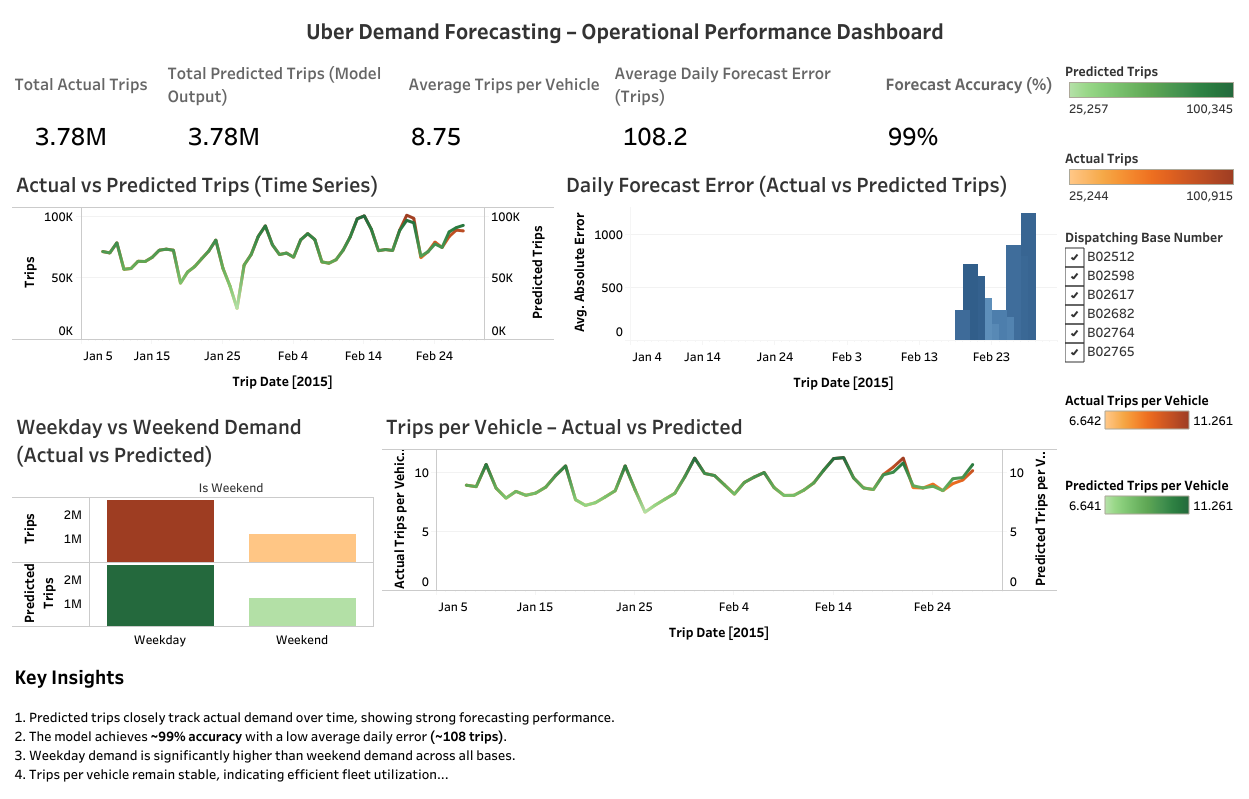

The page's visual inventory and layout, read from the dashboard file:
{"tool":"tableau","page":{"name":"Uber Demand Forecasting – Operational Performance Dashboard","canvas":[1000,1000],"units":"permille","ordinal":0},"visuals":[{"type":"text","box":[6.4,10,987.2,56.2]},{"type":"text","box":[6.4,66.2,122.2,76.5]},{"type":"text","box":[128.6,66.2,192.8,76.5]},{"type":"text","box":[321.3,66.2,165,76.5]},{"type":"text","box":[486.3,66.2,216.6,76.5]},{"type":"text","box":[702.8,66.2,146,76.5]},{"type":"legend","title":"Actual vs Predicted Trips (Time Series)","param":"[federated.0shk8vd0s3hhft1atfk1i05japby].[sum:predicted_trips:qk]","box":[848.8,66.2,144.8,108.8]},{"type":"worksheet","title":"Total Actual Trips","mark":"Automatic","box":[6.4,142.8,122.2,57.1]},{"type":"worksheet","title":"Total Predicted Trips (Model Output)","mark":"Automatic","box":[128.6,142.8,192.8,57.1]},{"type":"worksheet","title":"Average Trips per Vehicle","mark":"Automatic","box":[321.3,142.8,165,57.1]},{"type":"worksheet","title":"Average Daily Forecast Error (Trips)","mark":"Automatic","box":[486.3,142.8,216.6,57.1]},{"type":"worksheet","title":"Forecast Accuracy (%)","mark":"Automatic","box":[702.8,142.8,146,57.1]},{"type":"legend","title":"Actual vs Predicted Trips (Time Series)","param":"[federated.0shk8vd0s3hhft1atfk1i05japby].[sum:trips:qk]","box":[848.8,175,144.8,102.5]},{"type":"worksheet","title":"Actual vs Predicted Trips (Time Series)","mark":"Line","rows":["trips","predicted_trips"],"cols":["trip_date"],"box":[6.4,200,440.2,302.1]},{"type":"worksheet","title":"Daily Forecast Error (Actual vs Predicted Trips)","mark":"Bar","rows":["Calculation_606578592759934976"],"cols":["trip_date"],"box":[446.6,200,402.2,302.1]},{"type":"filter","title":"Actual vs Predicted Trips (Time Series)","param":"[federated.0shk8vd0s3hhft1atfk1i05japby].[none:dispatching_base_number:nk]","box":[848.8,277.5,144.8,200]},{"type":"legend","title":"Trips per Vehicle – Actual vs Predicted","param":"[federated.0shk8vd0s3hhft1atfk1i05japby].[usr:Calculation_606578592764907521:qk]","box":[848.8,477.5,144.8,106.2]},{"type":"worksheet","title":"Weekday vs Weekend Demand (Actual vs Predicted)","mark":"Bar","rows":["trips","predicted_trips"],"cols":["is_weekend"],"box":[6.4,502.1,295.9,314.2]},{"type":"worksheet","title":"Trips per Vehicle – Actual vs Predicted","mark":"Automatic","rows":["Calculation_606578592764907521","Calculation_606578592768544771"],"cols":["trip_date"],"box":[302.3,502.1,546.5,314.2]},{"type":"legend","title":"Trips per Vehicle – Actual vs Predicted","param":"[federated.0shk8vd0s3hhft1atfk1i05japby].[usr:Calculation_606578592768544771:qk]","box":[848.8,583.8,144.8,111.2]},{"type":"text","box":[6.4,816.2,987.2,173.8]}]}

Visuals, with their boxes on the dashboard's canvas, which has no fixed pixel size, in thousandths of its width and height (x1, y1, x2, y2). These are canvas units, not pixel positions in the 1249x799 screenshot, which may show the page scaled, cropped or inside an application window:
text: {"left": 6, "top": 10, "right": 994, "bottom": 66}
text: {"left": 6, "top": 66, "right": 129, "bottom": 143}
text: {"left": 129, "top": 66, "right": 321, "bottom": 143}
text: {"left": 321, "top": 66, "right": 486, "bottom": 143}
text: {"left": 486, "top": 66, "right": 703, "bottom": 143}
text: {"left": 703, "top": 66, "right": 849, "bottom": 143}
"Actual vs Predicted Trips (Time Series)" legend: {"left": 849, "top": 66, "right": 994, "bottom": 175}
"Total Actual Trips" worksheet: {"left": 6, "top": 143, "right": 129, "bottom": 200}
"Total Predicted Trips (Model Output)" worksheet: {"left": 129, "top": 143, "right": 321, "bottom": 200}
"Average Trips per Vehicle" worksheet: {"left": 321, "top": 143, "right": 486, "bottom": 200}
"Average Daily Forecast Error (Trips)" worksheet: {"left": 486, "top": 143, "right": 703, "bottom": 200}
"Forecast Accuracy (%)" worksheet: {"left": 703, "top": 143, "right": 849, "bottom": 200}
"Actual vs Predicted Trips (Time Series)" legend: {"left": 849, "top": 175, "right": 994, "bottom": 278}
"Actual vs Predicted Trips (Time Series)" worksheet (Line marks): {"left": 6, "top": 200, "right": 447, "bottom": 502}
"Daily Forecast Error (Actual vs Predicted Trips)" worksheet (Bar marks): {"left": 447, "top": 200, "right": 849, "bottom": 502}
"Actual vs Predicted Trips (Time Series)" filter: {"left": 849, "top": 278, "right": 994, "bottom": 478}
"Trips per Vehicle – Actual vs Predicted" legend: {"left": 849, "top": 478, "right": 994, "bottom": 584}
"Weekday vs Weekend Demand (Actual vs Predicted)" worksheet (Bar marks): {"left": 6, "top": 502, "right": 302, "bottom": 816}
"Trips per Vehicle – Actual vs Predicted" worksheet: {"left": 302, "top": 502, "right": 849, "bottom": 816}
"Trips per Vehicle – Actual vs Predicted" legend: {"left": 849, "top": 584, "right": 994, "bottom": 695}
text: {"left": 6, "top": 816, "right": 994, "bottom": 990}
